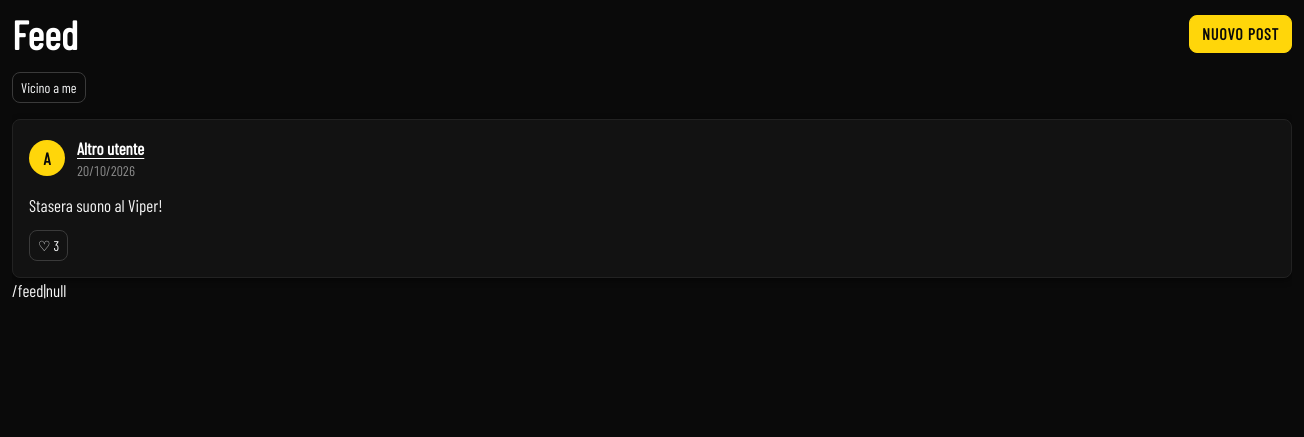
Test case: FeedPage · filtro «vicino a me» › accenderlo manda centro, raggio e pagina insieme, scrive l'indirizzo e avvisa che il centro è Firenze
What coordinates should you click on to do the following:
click the button "Vicino a me"
I would click on:
 (49, 88)
Its box is [12,72,86,103].
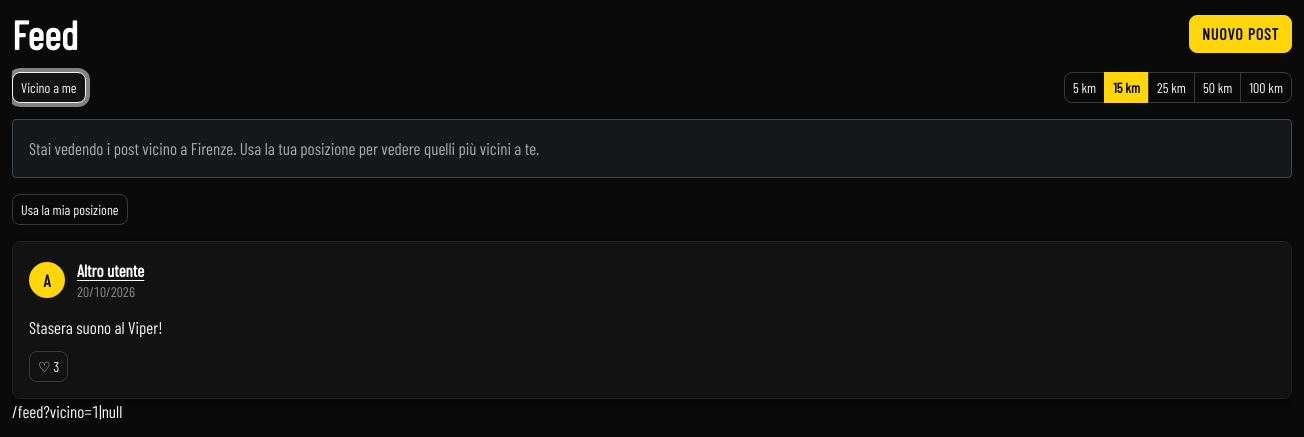
Check: the button with aria-label "Raggio" is shown, box [1064,72,1292,103]
Check: the text "Stai vedendo i post vicino a Firenze. Usa la tua posizione per vedere quelli più vicini a te." is shown, box [29,138,539,158]
